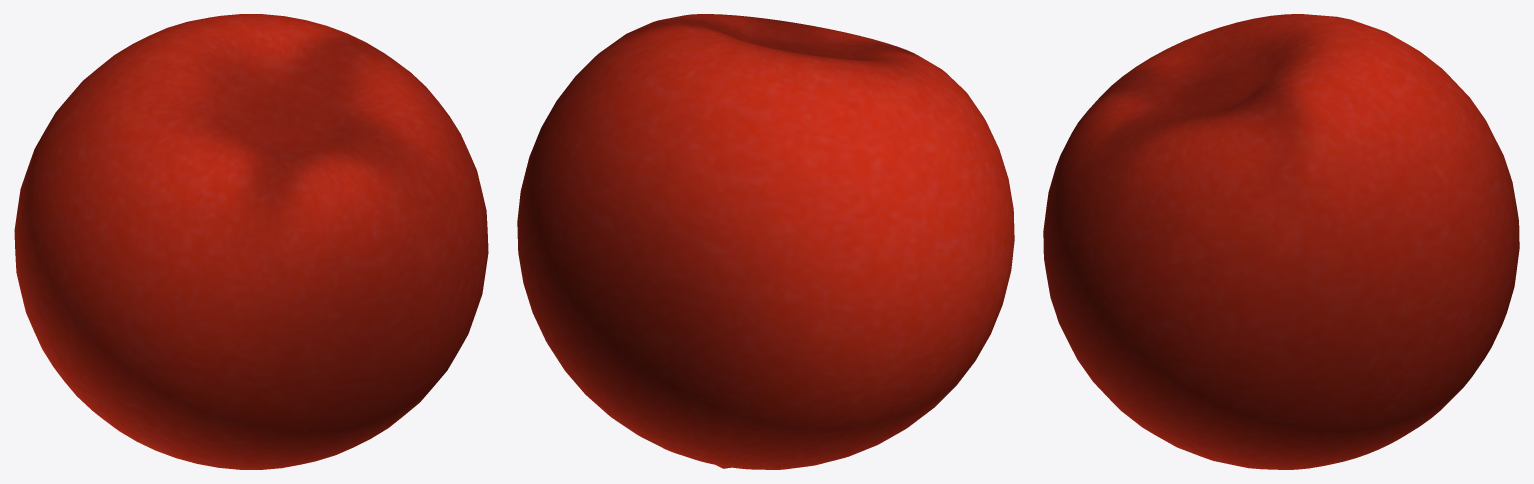
Rendered from tomato_06.obj.
The picture shows the model from 3 angles, left to right: view 1: azimuth 30°, elevation 25°; view 2: azimuth 150°, elevation 25°; view 3: azimuth 270°, elevation 25°; orthographic projection. The views are drawn at different scales.
Parts seen in each view (by area): view 1: tomato_06; view 2: tomato_06; view 3: tomato_06.
Part boxes in pixels (x1,y1,x2,y2): tomato_06: [14, 14, 488, 469]; tomato_06: [517, 14, 1014, 469]; tomato_06: [1043, 14, 1519, 469].
Size of the model in its own units: 3.69 by 3.41 by 3.66.
Materials: 1 (1 with a texture image).
